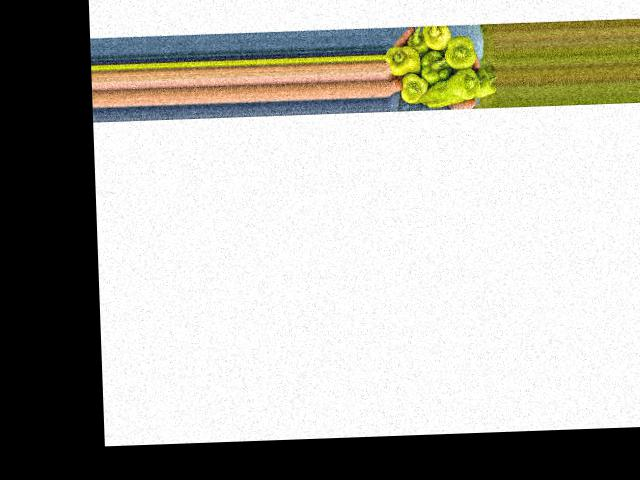bell_pepper: (386, 42, 422, 74)
